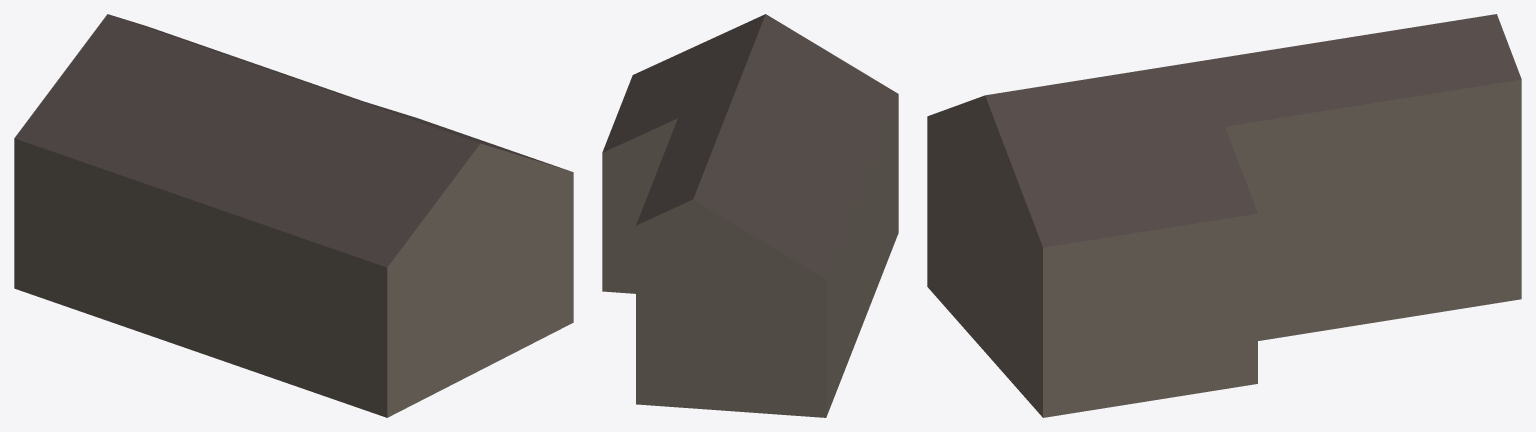
3 renders of one model, left to right at view 1: azimuth 30°, elevation 25°; view 2: azimuth 150°, elevation 25°; view 3: azimuth 270°, elevation 25°, orthographic. The views are drawn at different scales.
Visible parts, largest first — view 1: HP-w859457346; view 2: HP-w859457346; view 3: HP-w859457346.
Part boxes in pixels (<box>): HP-w859457346: <box>14,14,573,417</box>; HP-w859457346: <box>602,14,898,417</box>; HP-w859457346: <box>927,14,1521,417</box>.
Bounding box in the file's own units: 24.12 × 13.59 × 28.49.
